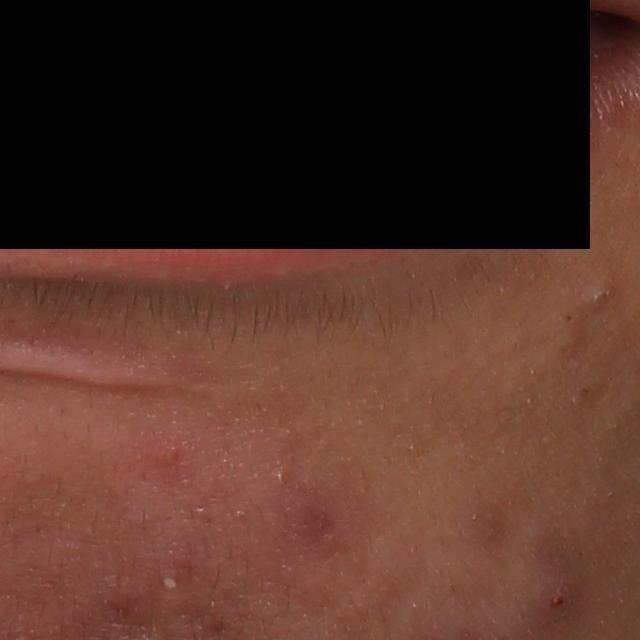comedo: (585, 286, 611, 313), (268, 466, 292, 490), (564, 309, 577, 325)
papule: (519, 569, 578, 638), (148, 437, 185, 470)
pustule: (155, 564, 183, 596)
